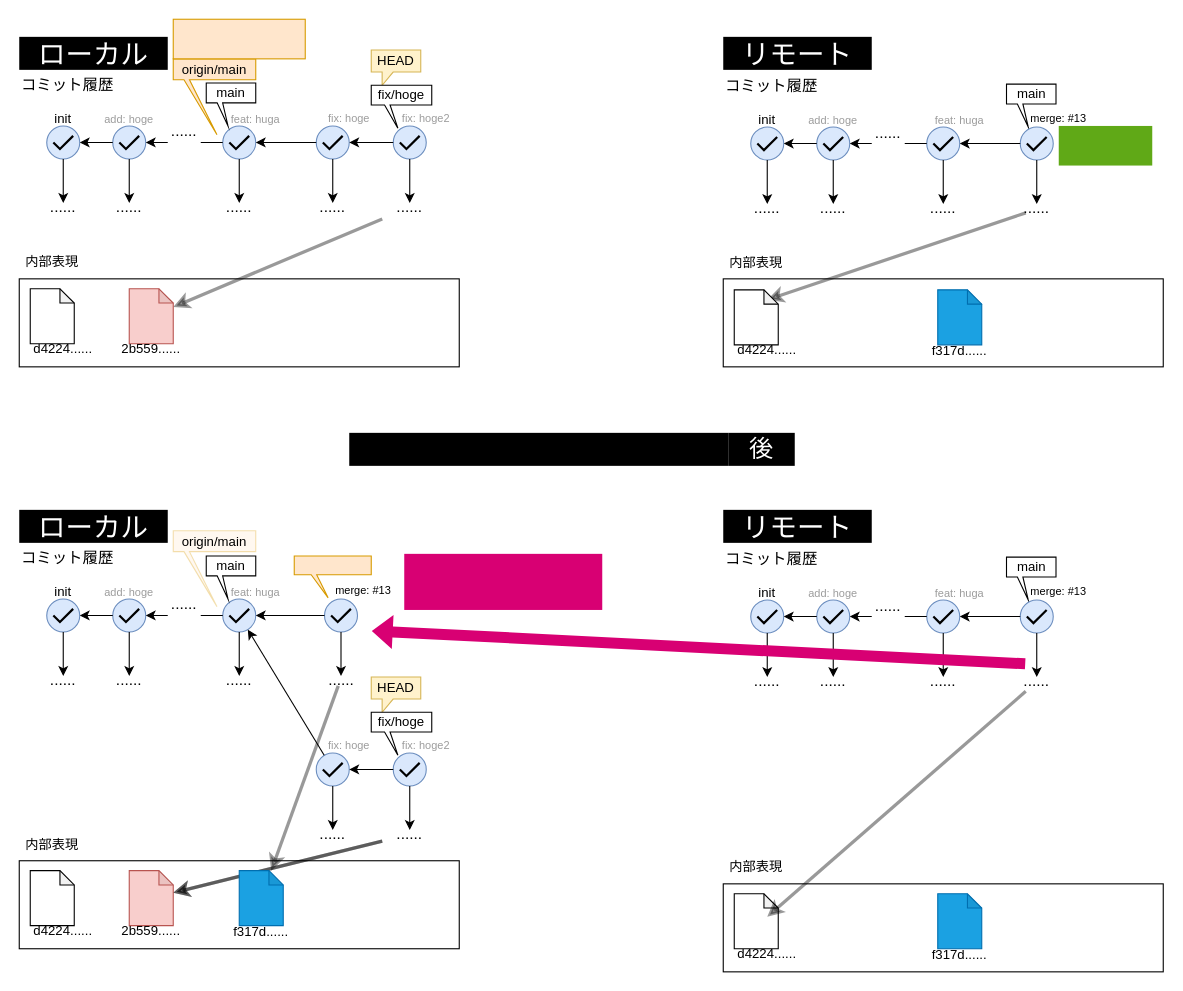
This 1183x991 diagram has some shape labels left out. The shapes that lost their labels are listed below. From the top down, each one's centre as x and y in pixels, then its label:
the point at 238,38: リモート追跡ブランチ
the point at 1105,145: ローカルより 進んでいる
the point at 538,448: git fetch origin main
the point at 332,576: origin/main
the point at 503,581: リモート追跡ブランチのみ更新
